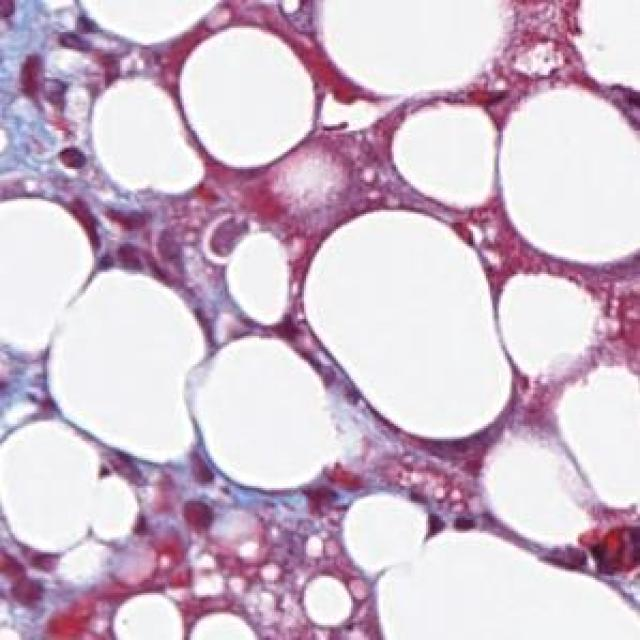inflammation: (8, 51, 98, 176)
